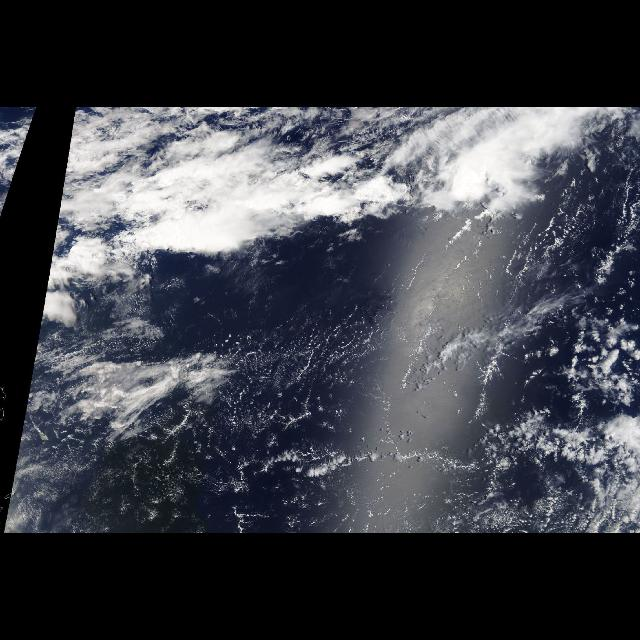Sugar: (200, 316, 426, 530)
